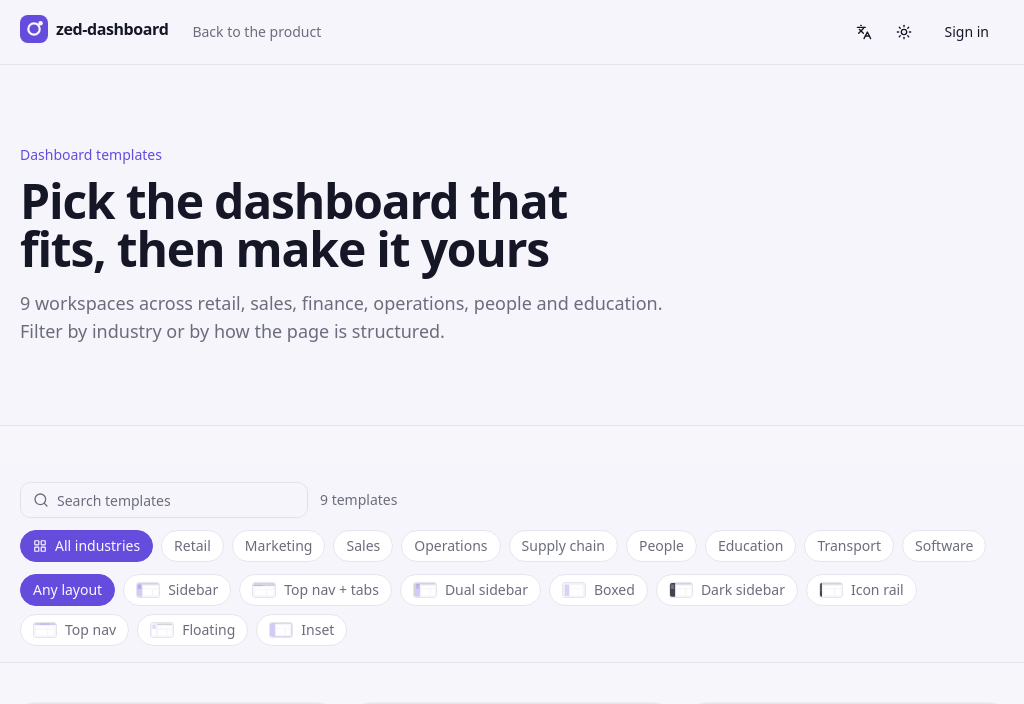
Test: Landing templates › filters the gallery by search
expect the heading "Pick the dashboard that fits, then make it yours" is shown: met, box [20,168,567,281]
Type "no-such-template" into the search field with placeholder "Search templates" at {"x": 176, "y": 500}, box [57,483,295,517]
(page scrolled)
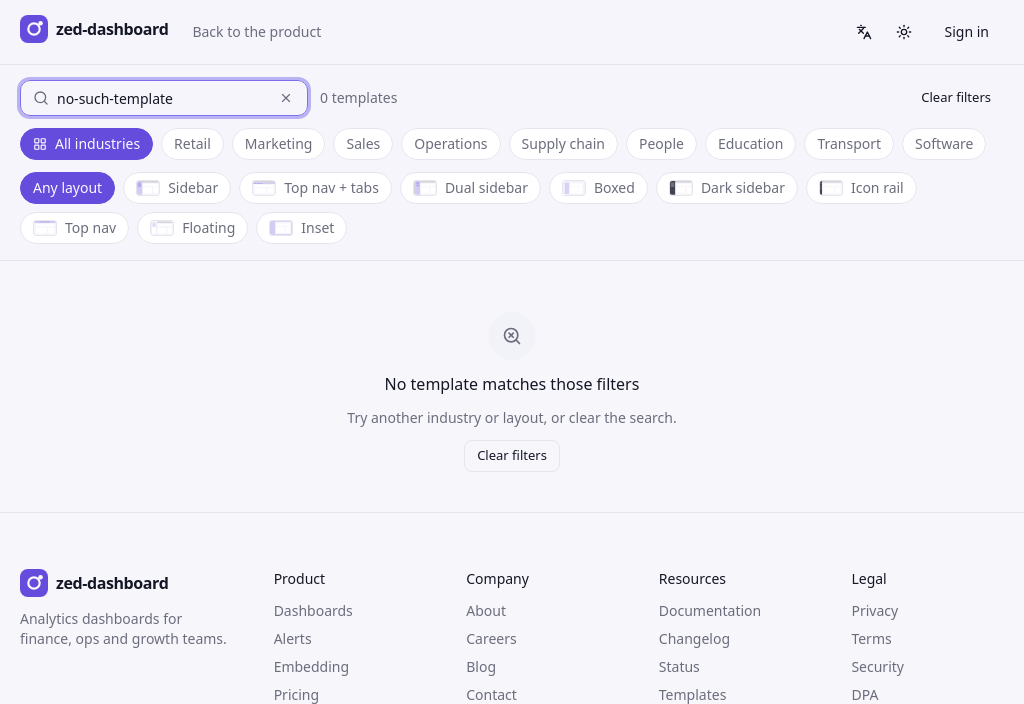
expect the text "No template matches those filters" is shown: met, box [385,372,639,396]
expect no links "live preview" are shown: met
